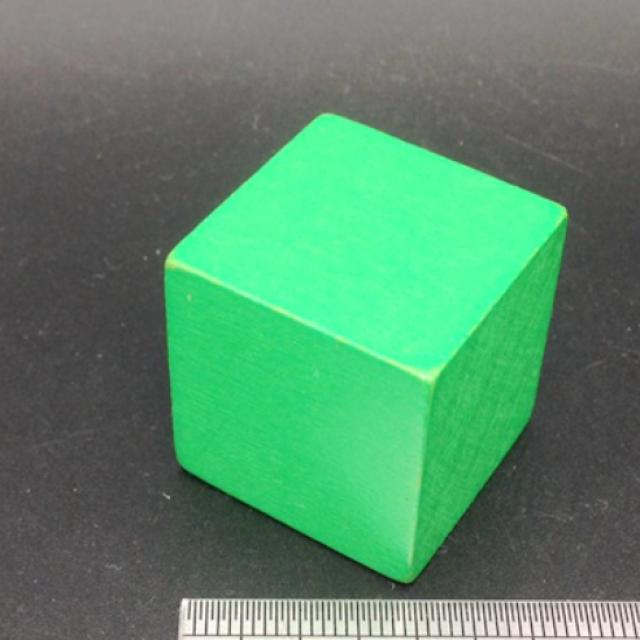green cube: (164, 113, 569, 587)
